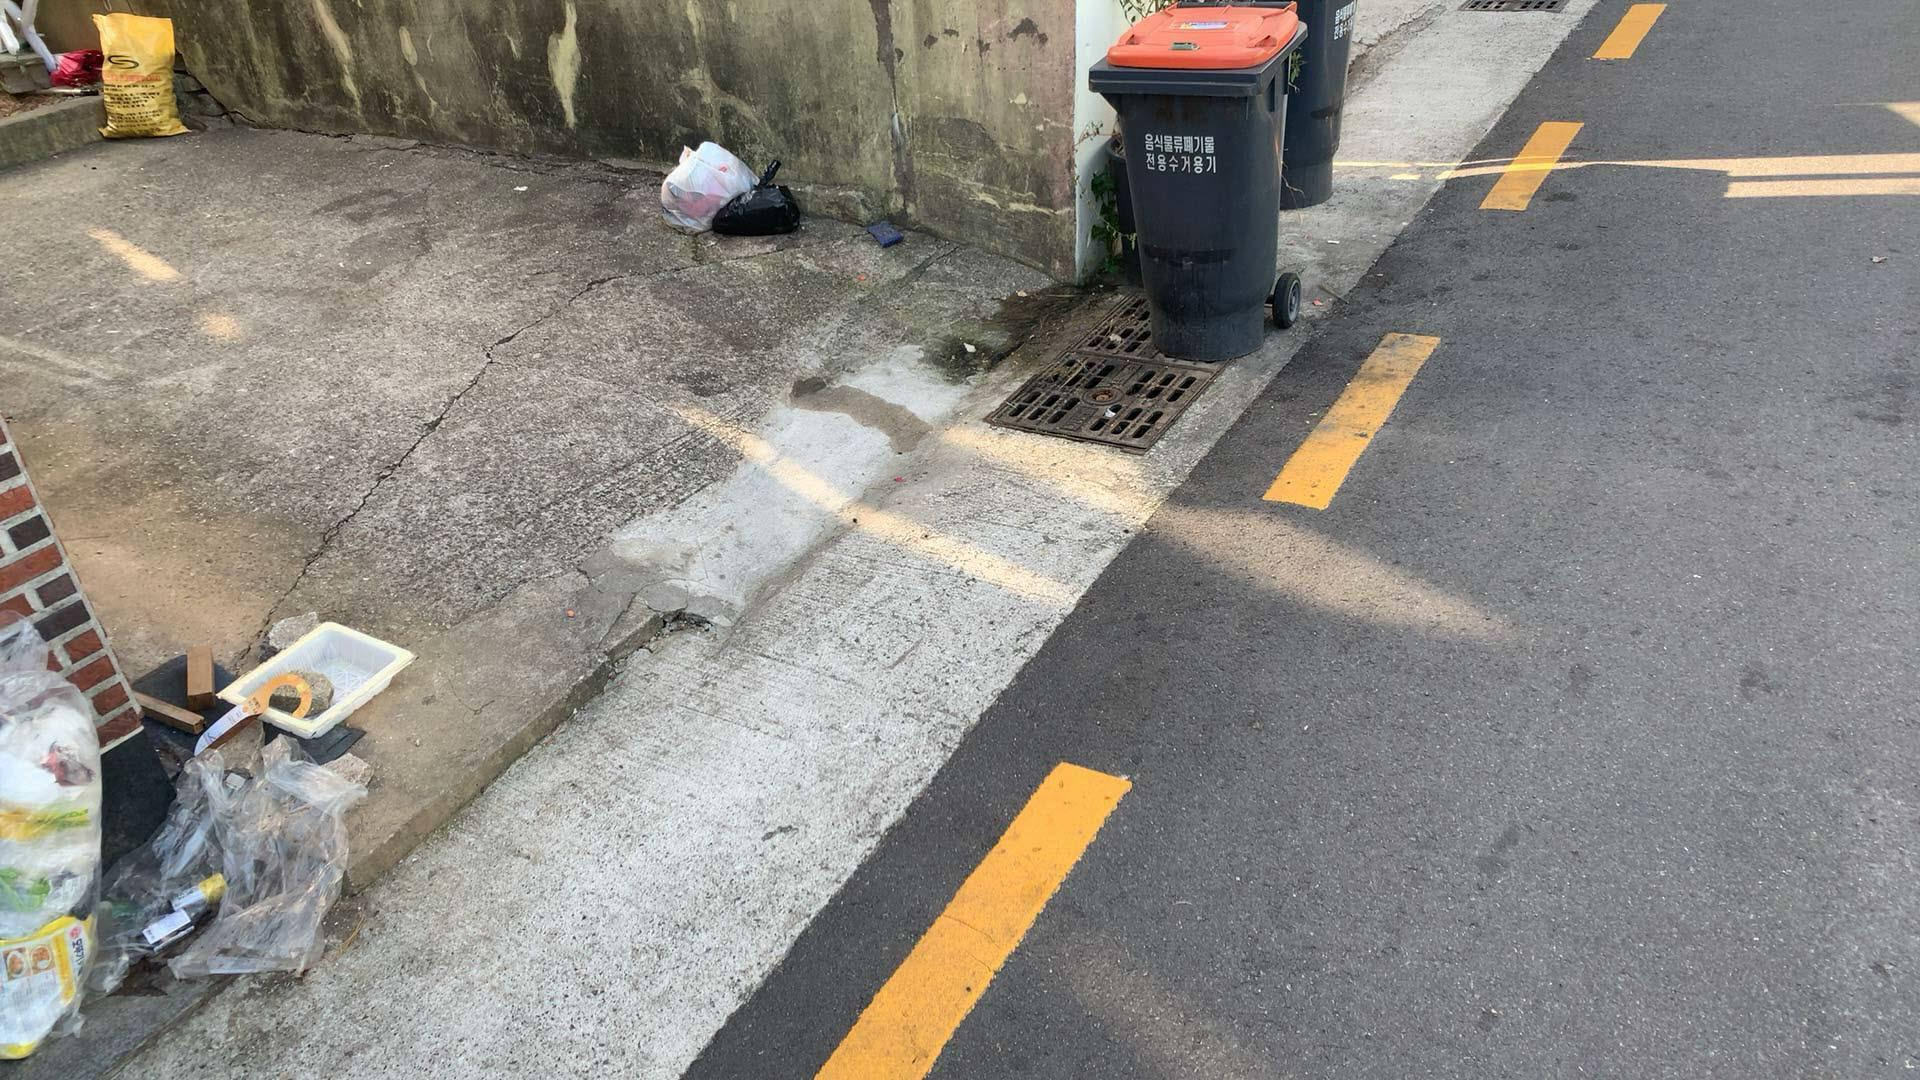black_bag: (709, 154, 804, 235)
white_bag: (651, 138, 764, 236)
